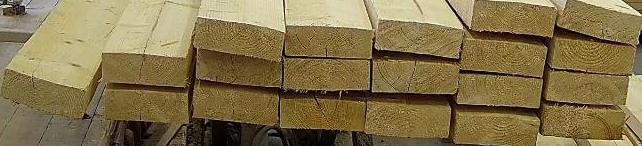Wood-Plank: (2, 68, 84, 119), (194, 16, 285, 61), (561, 1, 642, 45), (375, 20, 462, 60), (195, 87, 277, 127), (366, 100, 452, 138), (544, 66, 630, 104), (460, 39, 545, 76), (471, 0, 556, 37), (455, 72, 542, 107), (197, 50, 281, 86), (101, 49, 187, 84), (555, 40, 636, 76), (288, 24, 370, 59), (284, 58, 371, 90), (103, 89, 187, 122), (280, 100, 366, 132), (546, 105, 624, 140), (458, 113, 539, 146), (371, 62, 458, 92)
